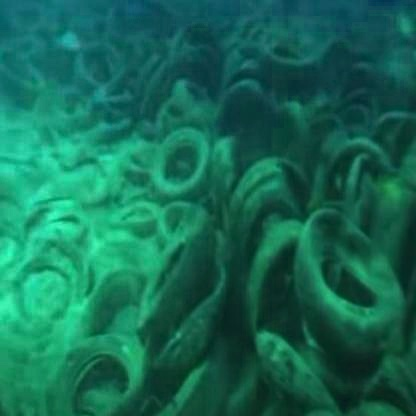tire: (268, 174, 404, 369), (204, 150, 300, 306), (122, 249, 213, 382), (29, 309, 142, 416), (152, 108, 231, 223)
